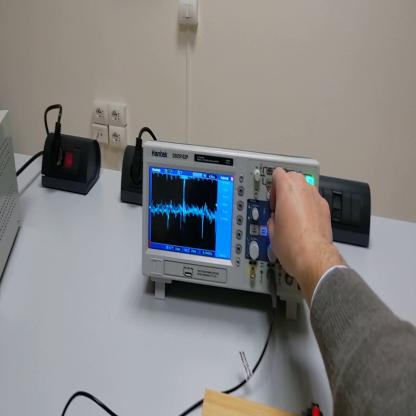hand: (267, 165, 335, 279)
low voltage board: (303, 401, 325, 415)
oscilloscope: (142, 141, 319, 318)
power supply: (1, 111, 24, 303)
socket: (42, 129, 101, 197), (123, 145, 141, 207)
working area: (201, 390, 291, 415)
